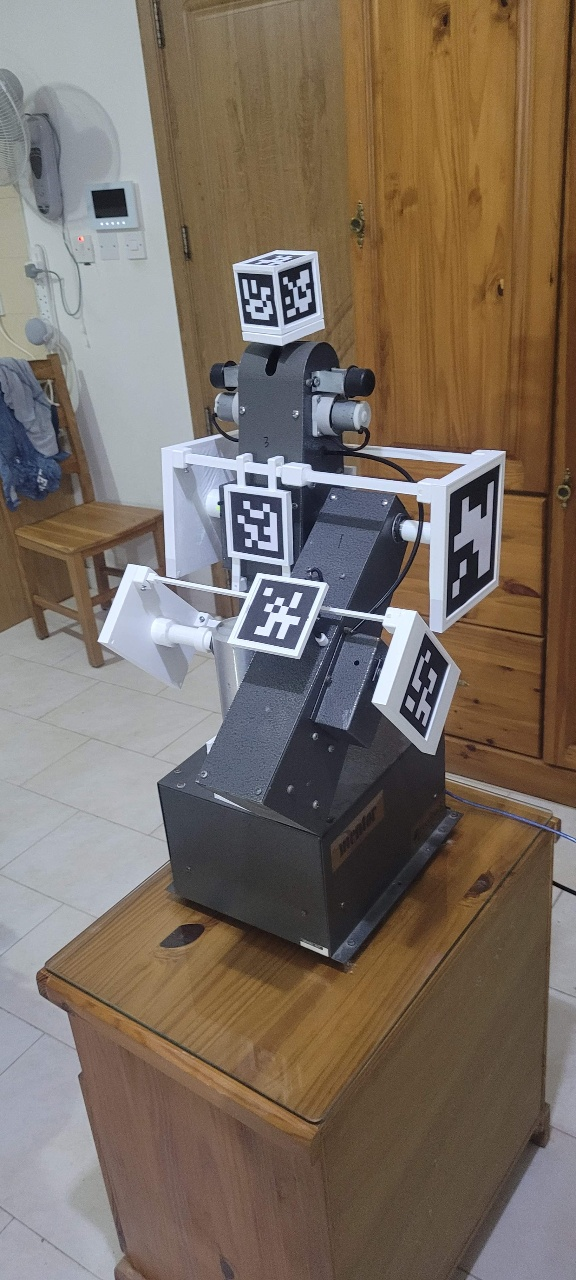Robot: (98, 247, 507, 839)
